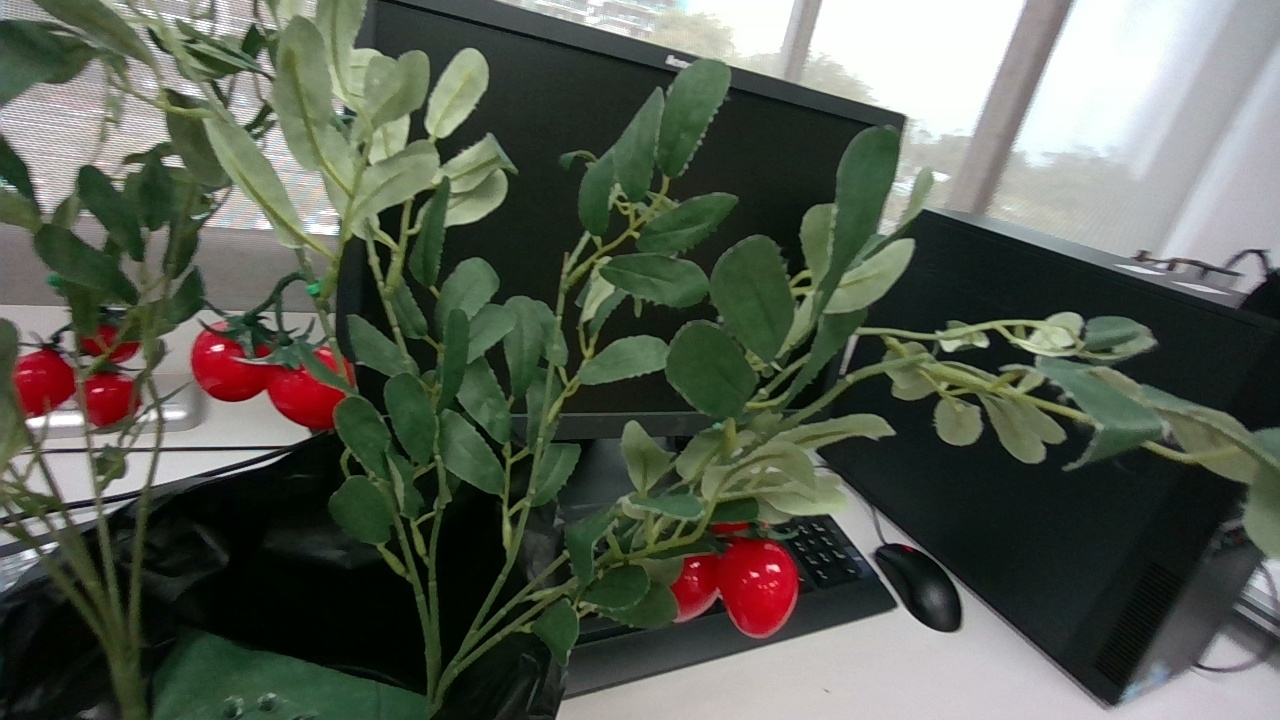peduncle: (275, 271, 305, 293)
strawberry: (719, 538, 799, 638), (190, 321, 280, 402), (266, 366, 344, 430), (11, 348, 74, 415), (671, 554, 720, 622), (82, 371, 139, 427), (315, 346, 336, 370)
